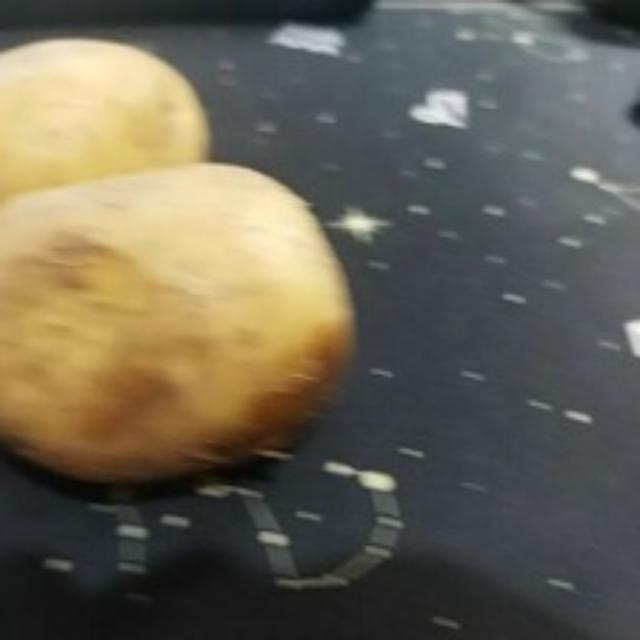Damaged potato: (1, 159, 373, 486)
